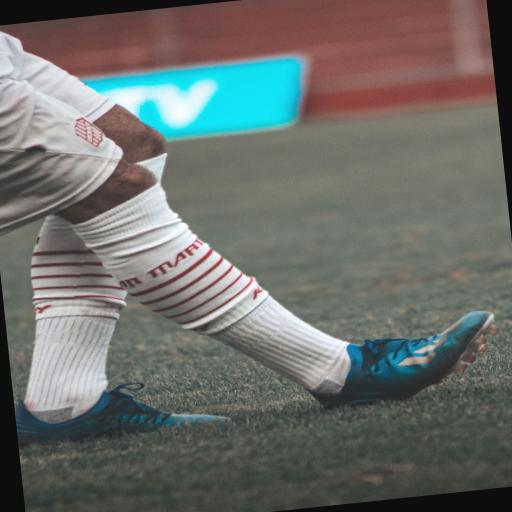shoe: (312, 312, 497, 409), (15, 382, 226, 446)
